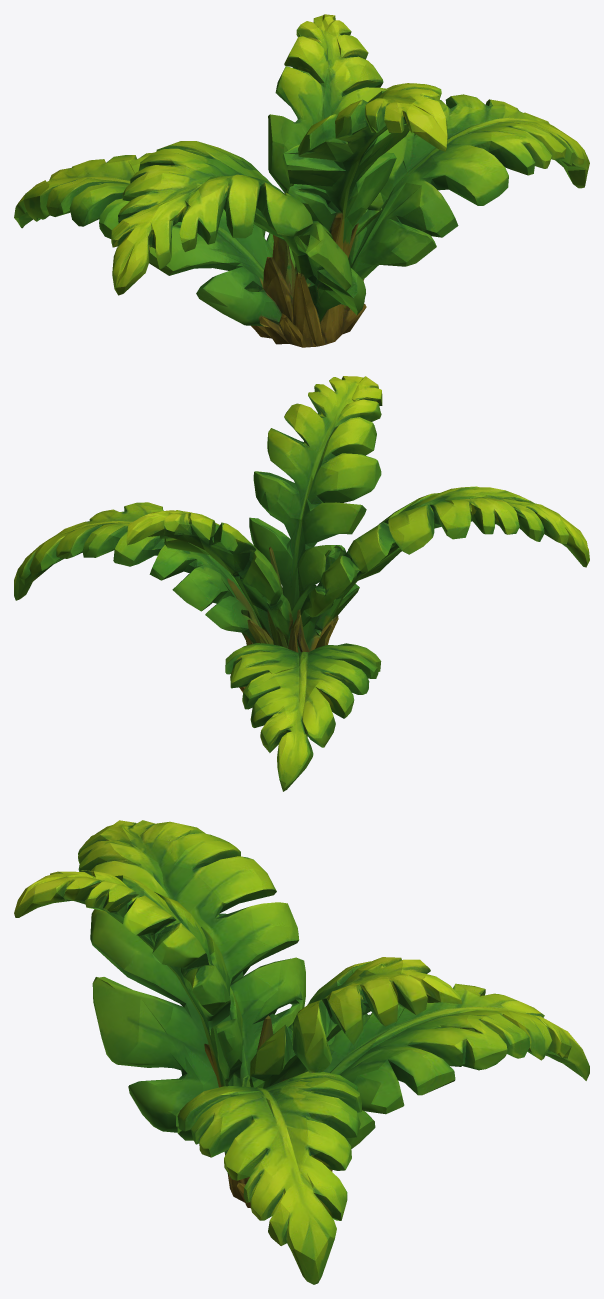
Rendered from emerald-fern-cluster.glb.
The picture shows the model from 3 angles, top to bottom: view 1: azimuth 30°, elevation 25°; view 2: azimuth 150°, elevation 25°; view 3: azimuth 270°, elevation 25°; orthographic projection. The views are drawn at different scales.
Parts seen in each view (by area): view 1: output_unwrapped; view 2: output_unwrapped; view 3: output_unwrapped.
Part boxes in pixels (x1=…): output_unwrapped: x1=14, y1=14, x2=589, y2=347; output_unwrapped: x1=14, y1=376, x2=589, y2=791; output_unwrapped: x1=14, y1=820, x2=589, y2=1284.
Size of the model in its own units: 1.1 by 0.55 by 0.8838.
Materials: 1 (1 with a texture image).
